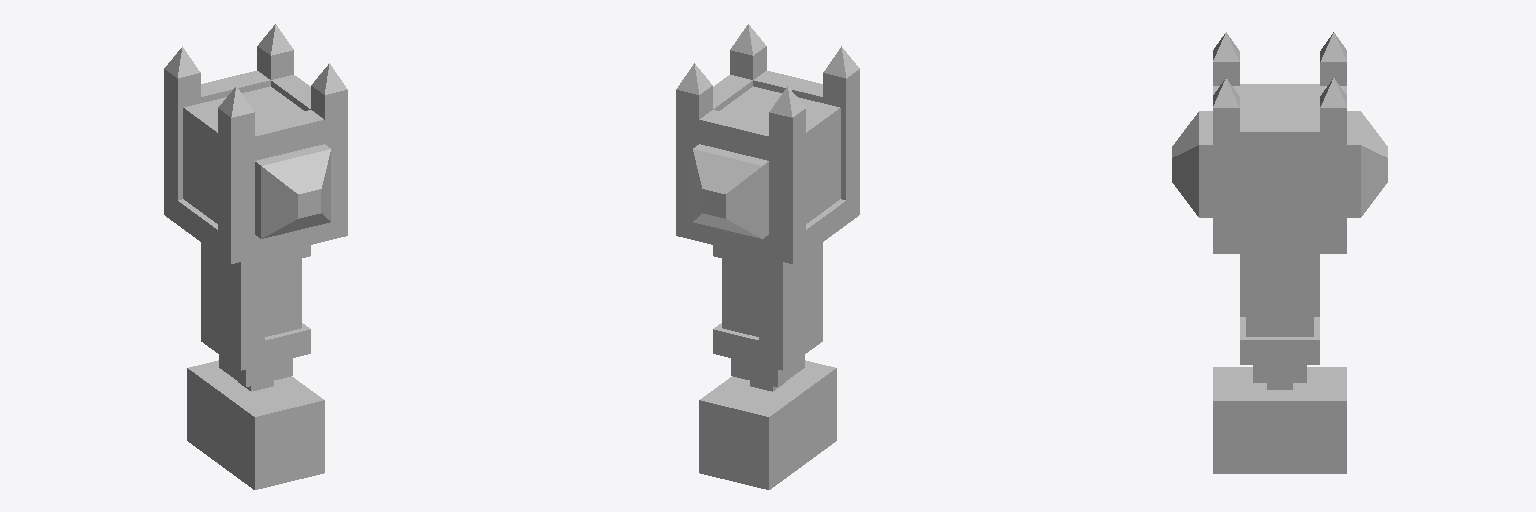
The model's file is arm_hammer_l.obj.
3 views of the same model, side by side, from view 1: azimuth 30°, elevation 25°; view 2: azimuth 150°, elevation 25°; view 3: azimuth 270°, elevation 25° (orthographic).
Visible parts, largest first — view 1: ARM_LEFT_HAMMER_Cube.031, ARM_LEFT_DECO_IRON_Cube.151; view 2: ARM_LEFT_HAMMER_Cube.031, ARM_LEFT_DECO_IRON_Cube.151; view 3: ARM_LEFT_HAMMER_Cube.031, ARM_LEFT_DECO_IRON_Cube.151.
Part boxes in pixels (x1,y1,x2,y2): ARM_LEFT_HAMMER_Cube.031: (164,71,347,489); ARM_LEFT_DECO_IRON_Cube.151: (164,24,347,238); ARM_LEFT_HAMMER_Cube.031: (676,71,859,489); ARM_LEFT_DECO_IRON_Cube.151: (676,24,859,238); ARM_LEFT_HAMMER_Cube.031: (1213,84,1346,473); ARM_LEFT_DECO_IRON_Cube.151: (1172,32,1387,217).
Bounding box in the file's own units: 0.3125 × 1.03 × 0.5.